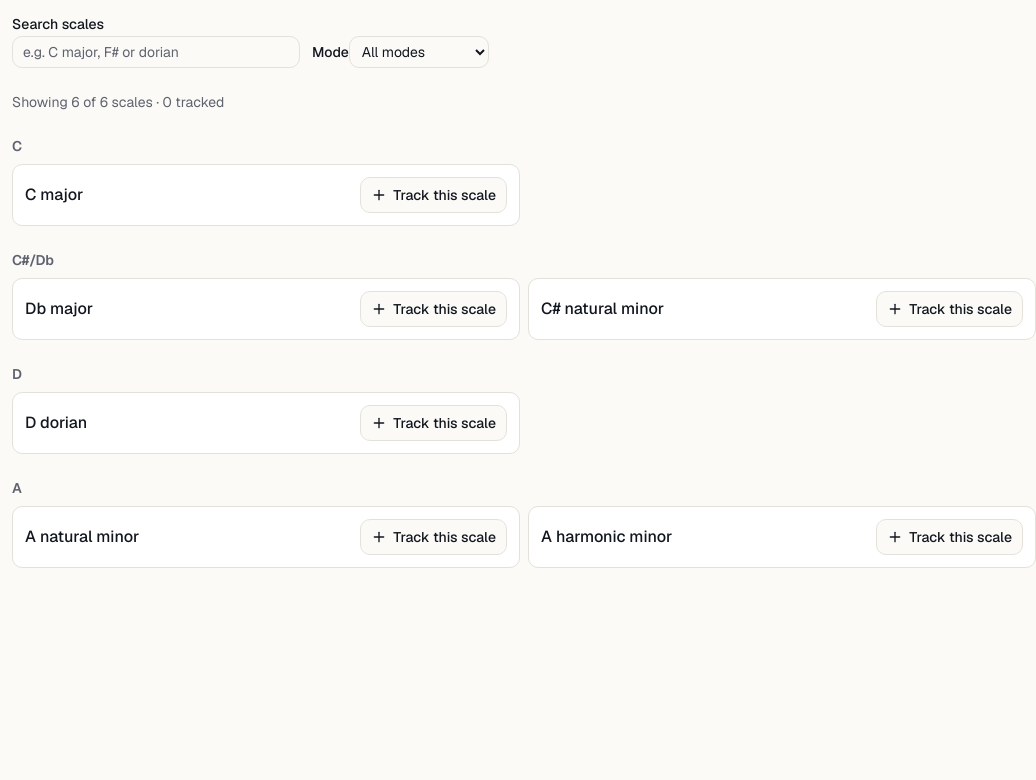
ScaleCatalog › filters by mode
The image size is (1036, 780).
Select "Natural minor" in the dropdown labelled "Mode": point(419, 52) left=349, top=36, right=489, bottom=68
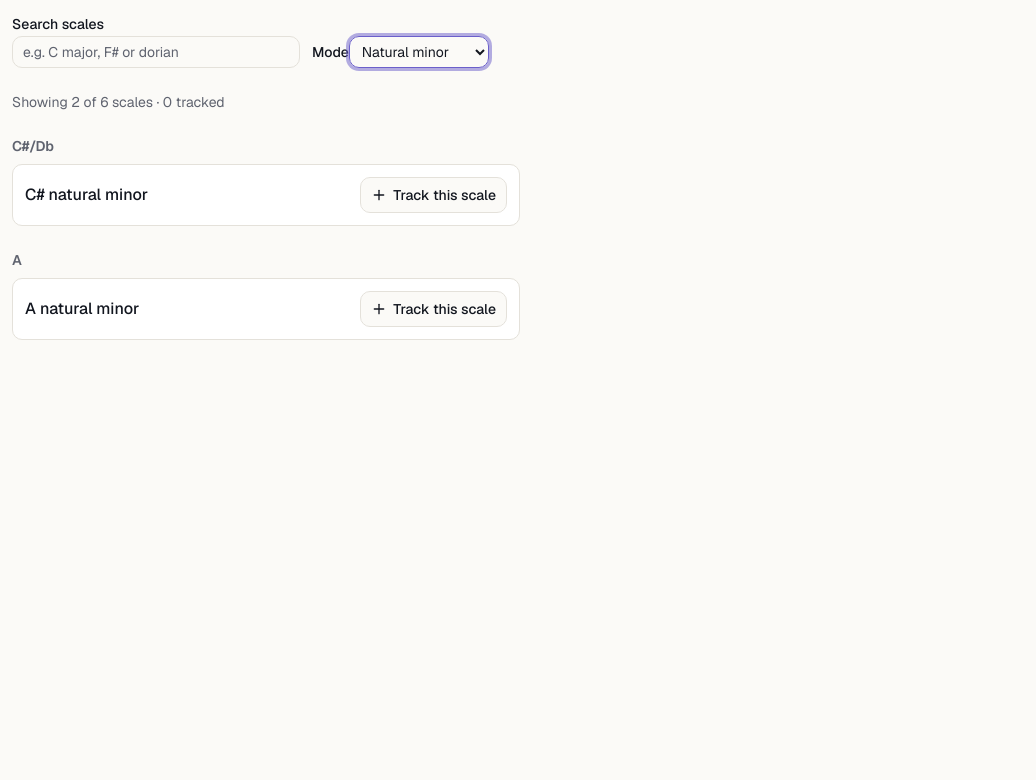
Expected: the text "A natural minor" is shown, left=25, top=297, right=139, bottom=321
Now the message reads "Showing 2 of 6 scales · 0 tracked", box left=12, top=93, right=225, bottom=111
